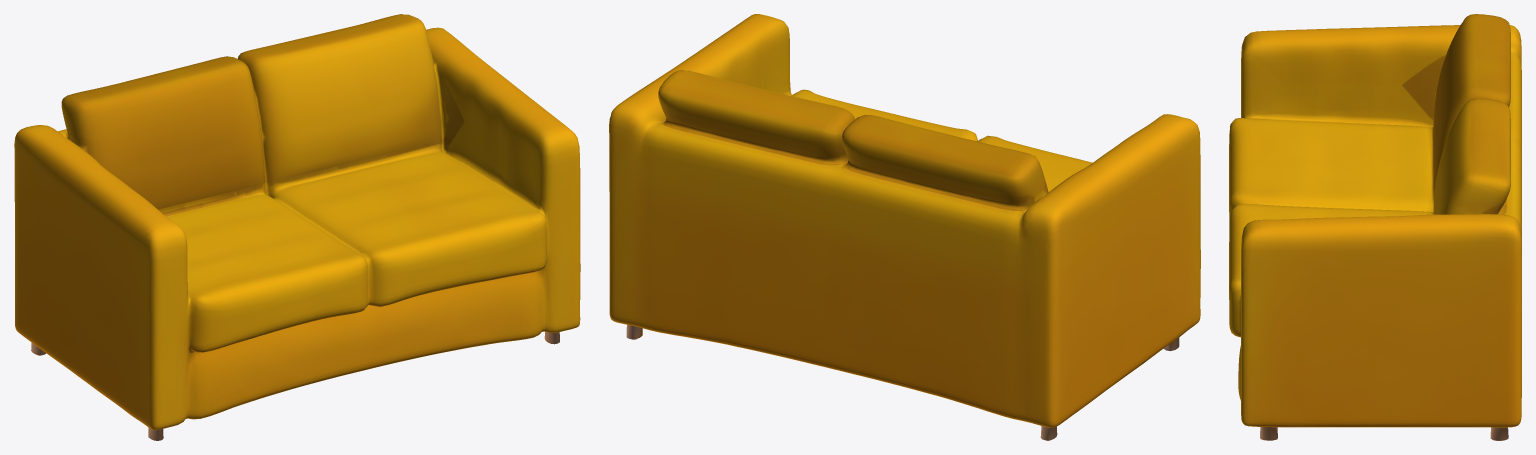
File: sofa-2-seat.glb
3 views of the same model, side by side, from view 1: azimuth 30°, elevation 25°; view 2: azimuth 150°, elevation 25°; view 3: azimuth 270°, elevation 25° (orthographic). The views are drawn at different scales.
Visible parts, largest first — view 1: model; view 2: model; view 3: model.
Boxes of the visible parts, x1,y1,x2,y2 form: model: [14, 14, 580, 440]; model: [609, 14, 1200, 440]; model: [1229, 14, 1521, 440].
Bounding box in the file's own units: 1.5 × 0.85 × 0.9.
1 material, 1 textured.
